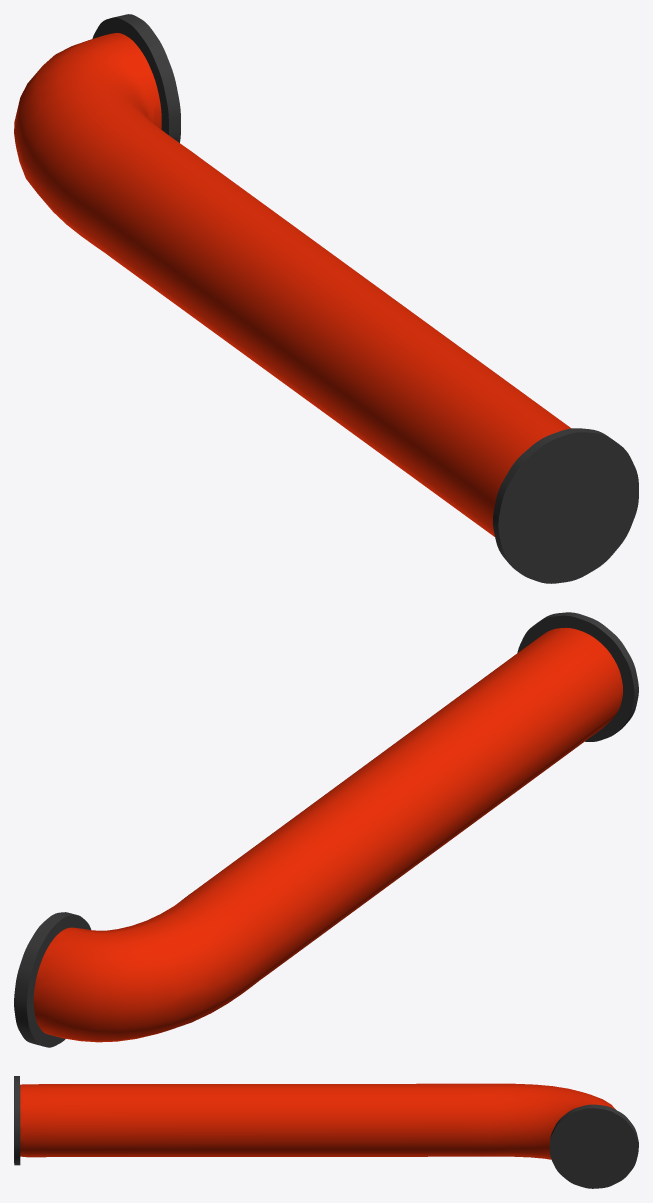
File: S_assete_tube_2.fbx
3 views of the same model, one above another, from view 1: azimuth 30°, elevation 25°; view 2: azimuth 150°, elevation 25°; view 3: azimuth 270°, elevation 25° (orthographic). The views are drawn at different scales.
Parts seen in each view (by area): view 1: S_basement_tube_2; view 2: S_basement_tube_2; view 3: S_basement_tube_2.
Part boxes in pixels (x1=…): S_basement_tube_2: x1=14, y1=14, x2=638, y2=583; S_basement_tube_2: x1=14, y1=612, x2=638, y2=1047; S_basement_tube_2: x1=14, y1=1076, x2=638, y2=1188.
Size of the model in its own units: 30.55 by 24.26 by 170.
